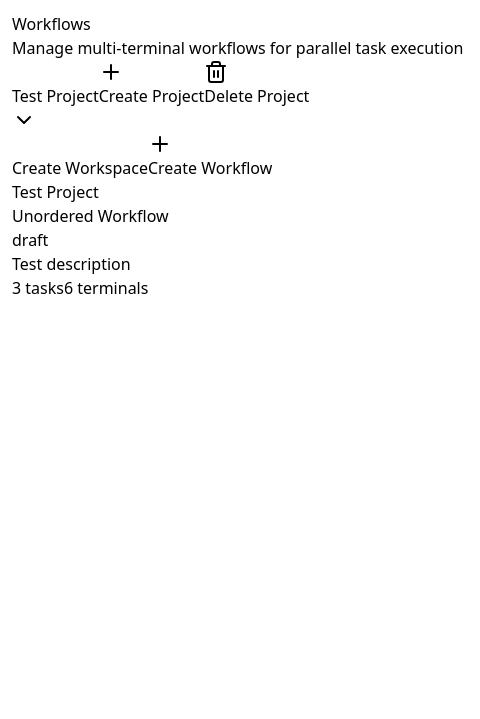
Workflows Page › Project and Pipeline Consistency › renders tasks and terminals in orderIndex order
Expected: the heading "Unordered Workflow" is shown, x1=12 y1=205 x2=169 y2=227
Click the text "Unordered Workflow".
click(90, 252)  # box x1=12 y1=205 x2=169 y2=299
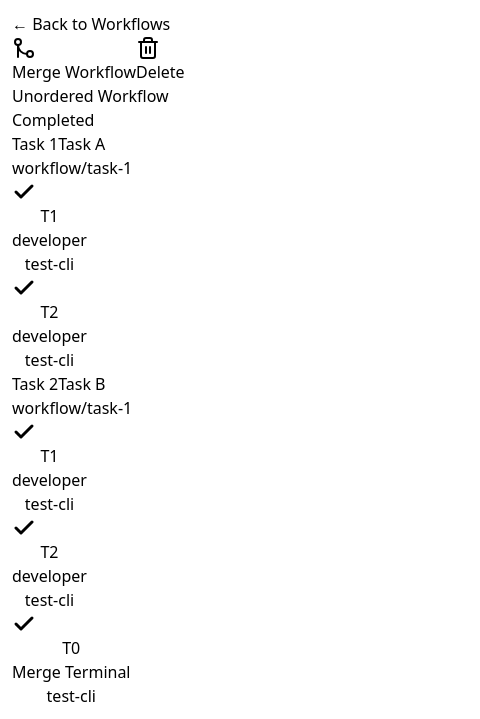
Result: the text "Task A" is shown at x1=58 y1=133 x2=105 y2=155
Result: the text "Task B" is shown at x1=58 y1=373 x2=106 y2=395
